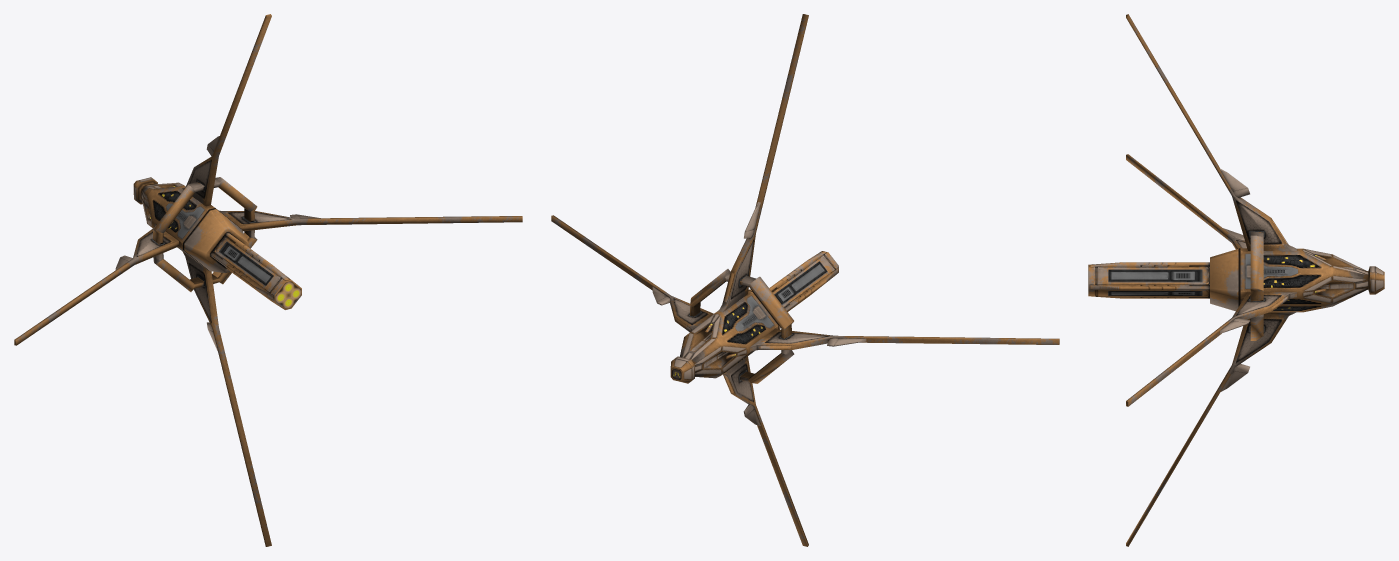
Rendered from 23563_lite.glb.
The picture shows the model from 3 angles, left to right: view 1: azimuth 30°, elevation 25°; view 2: azimuth 150°, elevation 25°; view 3: azimuth 270°, elevation 25°; orthographic projection.
Parts seen in each view (by area): view 1: ship; view 2: ship; view 3: ship.
Boxes of the visible parts, x1,y1,x2,y2 form: ship: (14,14,522,546); ship: (551,14,1059,546); ship: (1088,14,1384,546).
Bounding box in the file's own units: 0.1104 × 0.1104 × 0.0559.
Materials: 1 (1 with a texture image).
